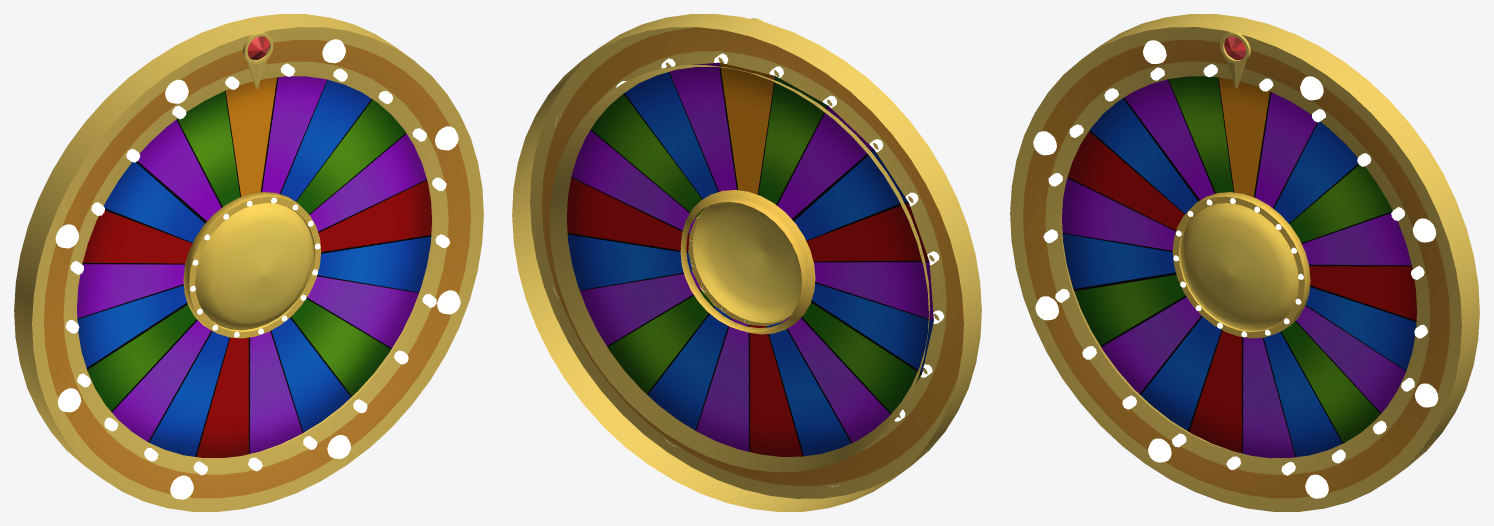
The model's file is FortuneWheel.glb.
3 renders of one model, left to right at view 1: azimuth 30°, elevation 25°; view 2: azimuth 150°, elevation 25°; view 3: azimuth 330°, elevation 25°, orthographic.
Parts seen in each view (by area): view 1: Plates.009, Wheel_Wheel_MAT_0, Cylinder, OuterLight, WheelStopper, pointer, InnerLight; view 2: Plates.009, Wheel_Wheel_MAT_0, Cylinder, WheelStopper; view 3: Plates.009, Wheel_Wheel_MAT_0, Cylinder, OuterLight, WheelStopper, pointer, InnerLight.
Boxes of the visible parts, <box> form: Plates.009: <box>77,76,431,457</box>; Wheel_Wheel_MAT_0: <box>14,14,483,511</box>; Cylinder: <box>183,192,321,338</box>; OuterLight: <box>55,39,460,499</box>; WheelStopper: <box>65,63,449,475</box>; pointer: <box>242,31,273,89</box>; InnerLight: <box>190,197,320,337</box>; Plates.009: <box>566,62,933,456</box>; Wheel_Wheel_MAT_0: <box>512,14,981,511</box>; Cylinder: <box>680,190,815,334</box>; WheelStopper: <box>616,53,944,421</box>; Plates.009: <box>1062,76,1416,458</box>; Wheel_Wheel_MAT_0: <box>1010,14,1479,511</box>; Cylinder: <box>1172,192,1310,338</box>; OuterLight: <box>1033,40,1438,498</box>; WheelStopper: <box>1043,64,1427,475</box>; pointer: <box>1220,31,1250,88</box>; InnerLight: <box>1173,198,1303,337</box>.
Size of the model in its own units: 3.71 by 3.72 by 0.3575.
Materials: 1 (1 with a texture image).
